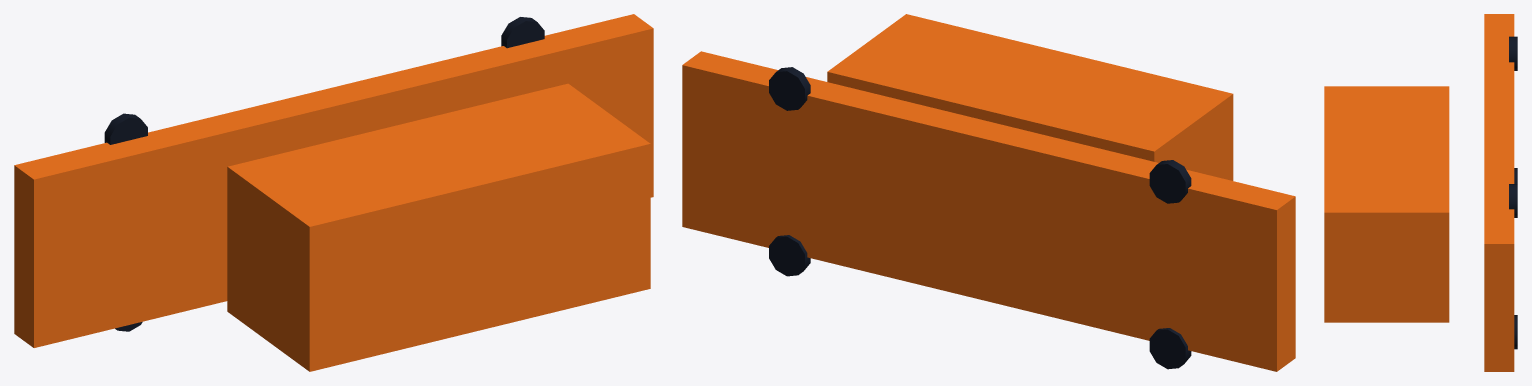
File: vehicle.bus.glb
3 views of the same model, side by side, from view 1: azimuth 30°, elevation 25°; view 2: azimuth 150°, elevation 25°; view 3: azimuth 270°, elevation 25° (orthographic). The views are drawn at different scales.
Parts seen in each view (by area): view 1: vehicle.bus; view 2: vehicle.bus; view 3: vehicle.bus.
Boxes of the visible parts, bbox=[...] form: vehicle.bus: bbox=[14, 14, 653, 371]; vehicle.bus: bbox=[682, 14, 1295, 371]; vehicle.bus: bbox=[1324, 14, 1517, 371].
Size of the model in its own units: 10 by 3.3 by 3.56.
